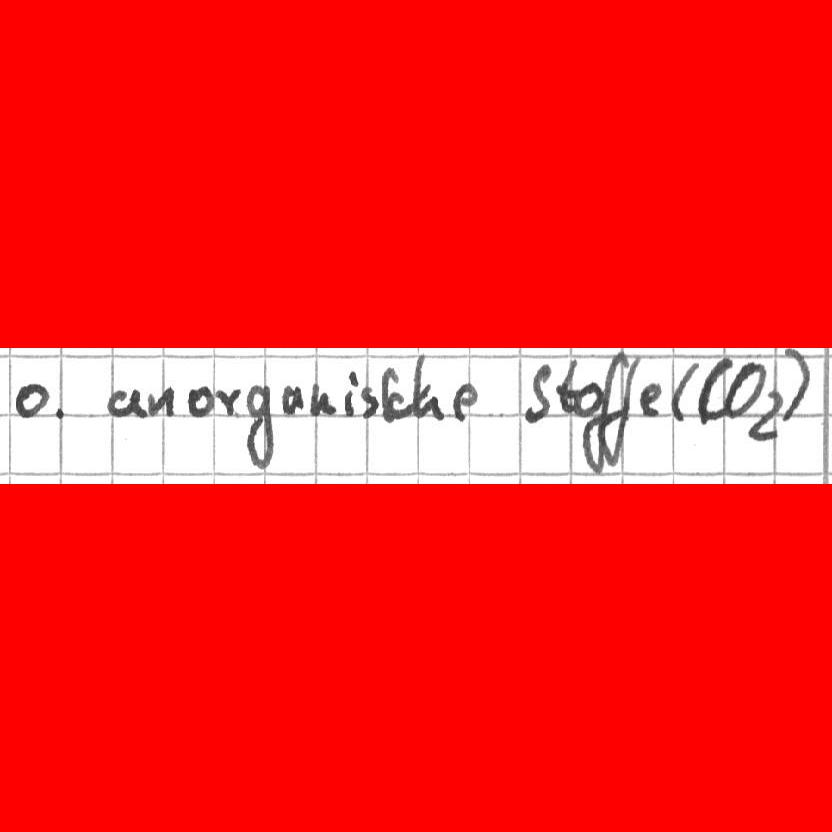Char: (580, 353, 620, 473), (603, 352, 642, 465), (724, 358, 767, 417), (243, 386, 272, 472), (410, 355, 446, 419), (785, 353, 817, 424), (697, 355, 729, 425), (522, 363, 554, 427), (747, 390, 785, 441), (670, 359, 697, 426), (13, 381, 53, 421), (381, 365, 406, 423), (557, 358, 581, 414), (450, 380, 480, 422), (570, 380, 603, 418), (106, 386, 141, 420), (638, 378, 664, 417), (146, 385, 175, 418), (186, 383, 211, 419), (309, 384, 335, 418), (214, 384, 239, 419), (280, 382, 304, 415), (342, 367, 357, 416), (360, 384, 380, 419)
